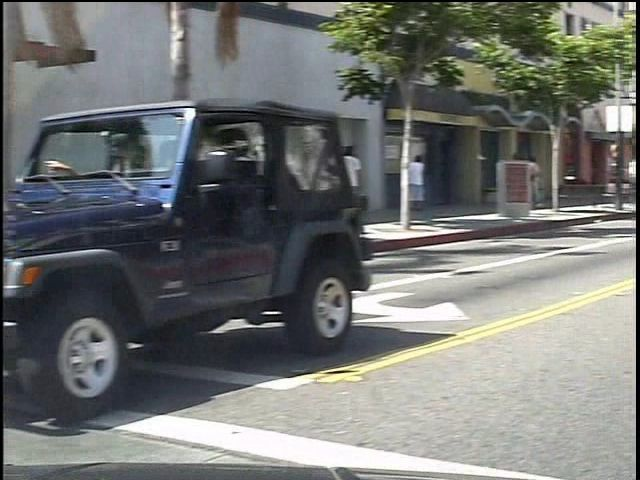person: (422, 144, 446, 227), (362, 140, 380, 195)
